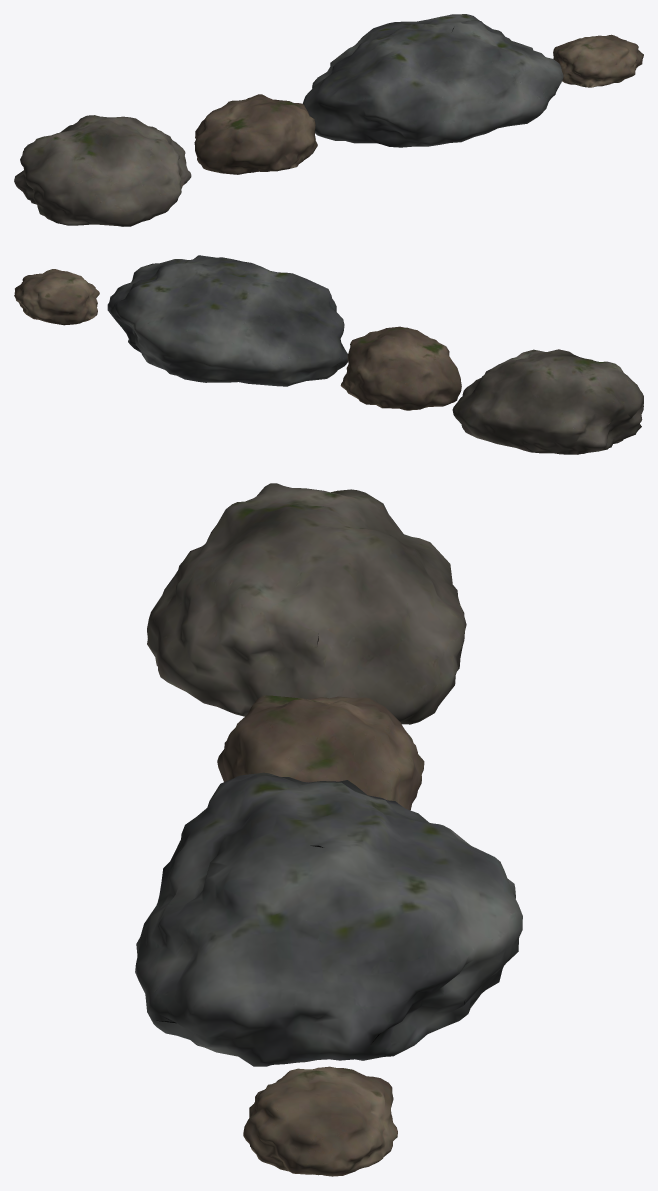
File: pond-rocks.glb
The picture shows the model from 3 angles, top to bottom: view 1: azimuth 30°, elevation 25°; view 2: azimuth 150°, elevation 25°; view 3: azimuth 270°, elevation 25°; orthographic projection. The views are drawn at different scales.
Parts seen in each view (by area): view 1: pond_rock_03, pond_rock_01, pond_rock_02, pond_rock_04; view 2: pond_rock_03, pond_rock_01, pond_rock_02, pond_rock_04; view 3: pond_rock_03, pond_rock_01, pond_rock_02, pond_rock_04.
Boxes of the visible parts, x1,y1,x2,y2 form: pond_rock_03: (302,14,563,147); pond_rock_01: (14,115,191,226); pond_rock_02: (194,94,317,174); pond_rock_04: (553,34,643,87); pond_rock_03: (107,255,347,386); pond_rock_01: (452,349,643,454); pond_rock_02: (340,326,461,410); pond_rock_04: (14,269,99,325); pond_rock_03: (135,772,522,1066); pond_rock_01: (147,483,466,724); pond_rock_02: (217,695,424,810); pond_rock_04: (243,1066,397,1176).
Size of the model in its own units: 2.05 by 0.2607 by 0.5581.
Materials: 4 (4 with a texture image).
